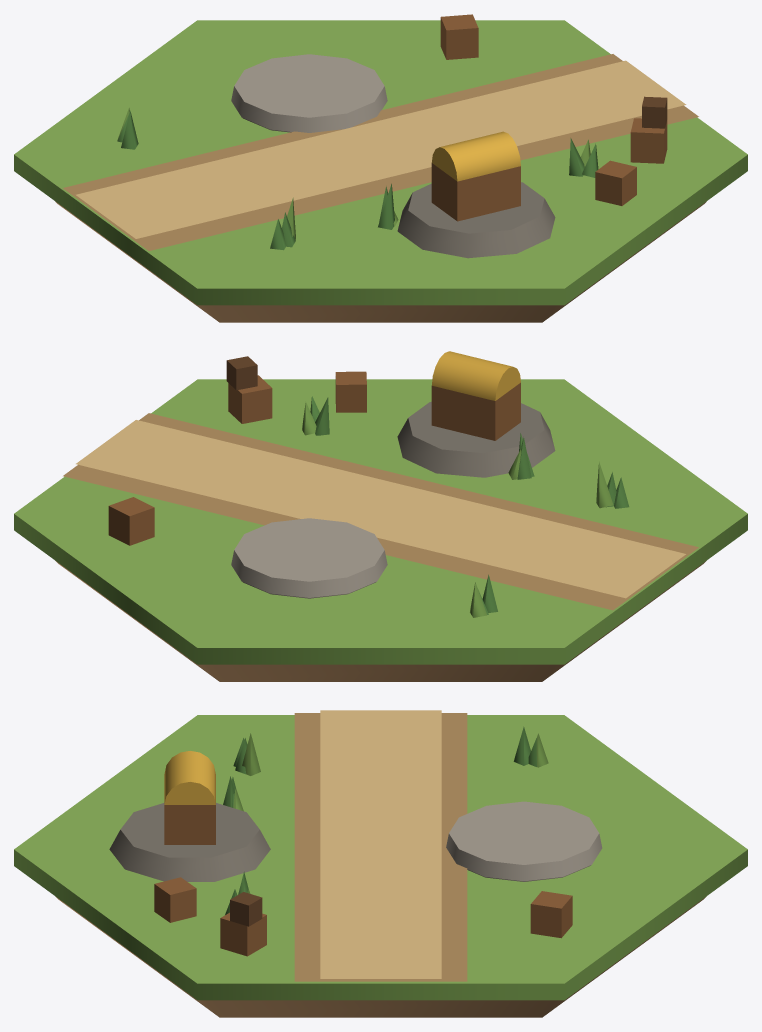
File: landmark_treasure.glb
3 renders of one model, top to bottom at view 1: azimuth 30°, elevation 25°; view 2: azimuth 150°, elevation 25°; view 3: azimuth 270°, elevation 25°, orthographic.
Parts seen in each view (by area): view 1: turf, road, tower_slot_1_plate, treasure_dais, tile_base, crate (×3), chest_body, chest_lid, crate_small; view 2: turf, road, tower_slot_1_plate, tile_base, treasure_dais, crate (×3), chest_body, chest_lid, crate_small; view 3: turf, road, tower_slot_1_plate, treasure_dais, tile_base, crate (×3), chest_lid, chest_body, crate_small.
Boxes of the visible parts, bbox=[...] form: turf: bbox=[14, 20, 747, 305]; road: bbox=[63, 54, 698, 250]; tower_slot_1_plate: bbox=[231, 54, 387, 132]; treasure_dais: bbox=[397, 182, 555, 258]; tile_base: bbox=[55, 201, 706, 322]; crate (×3): bbox=[440, 14, 667, 205]; chest_body: bbox=[431, 163, 520, 221]; chest_lid: bbox=[431, 131, 520, 181]; crate_small: bbox=[642, 96, 667, 128]; turf: bbox=[14, 379, 747, 664]; road: bbox=[63, 413, 698, 610]; tower_slot_1_plate: bbox=[231, 518, 387, 597]; tile_base: bbox=[56, 561, 705, 681]; treasure_dais: bbox=[397, 401, 555, 477]; crate (×3): bbox=[108, 371, 366, 545]; chest_body: bbox=[431, 382, 520, 440]; chest_lid: bbox=[432, 351, 520, 400]; crate_small: bbox=[226, 356, 257, 390]; turf: bbox=[14, 715, 747, 1000]; road: bbox=[294, 710, 467, 981]; tower_slot_1_plate: bbox=[446, 801, 602, 881]; treasure_dais: bbox=[109, 803, 270, 881]; tile_base: bbox=[55, 896, 706, 1017]; crate (×3): bbox=[154, 877, 572, 956]; chest_lid: bbox=[164, 751, 215, 804]; chest_body: bbox=[164, 805, 215, 844]; crate_small: bbox=[230, 892, 262, 926].
Bounding box in the file's own units: 1.73 × 0.4 × 2.
